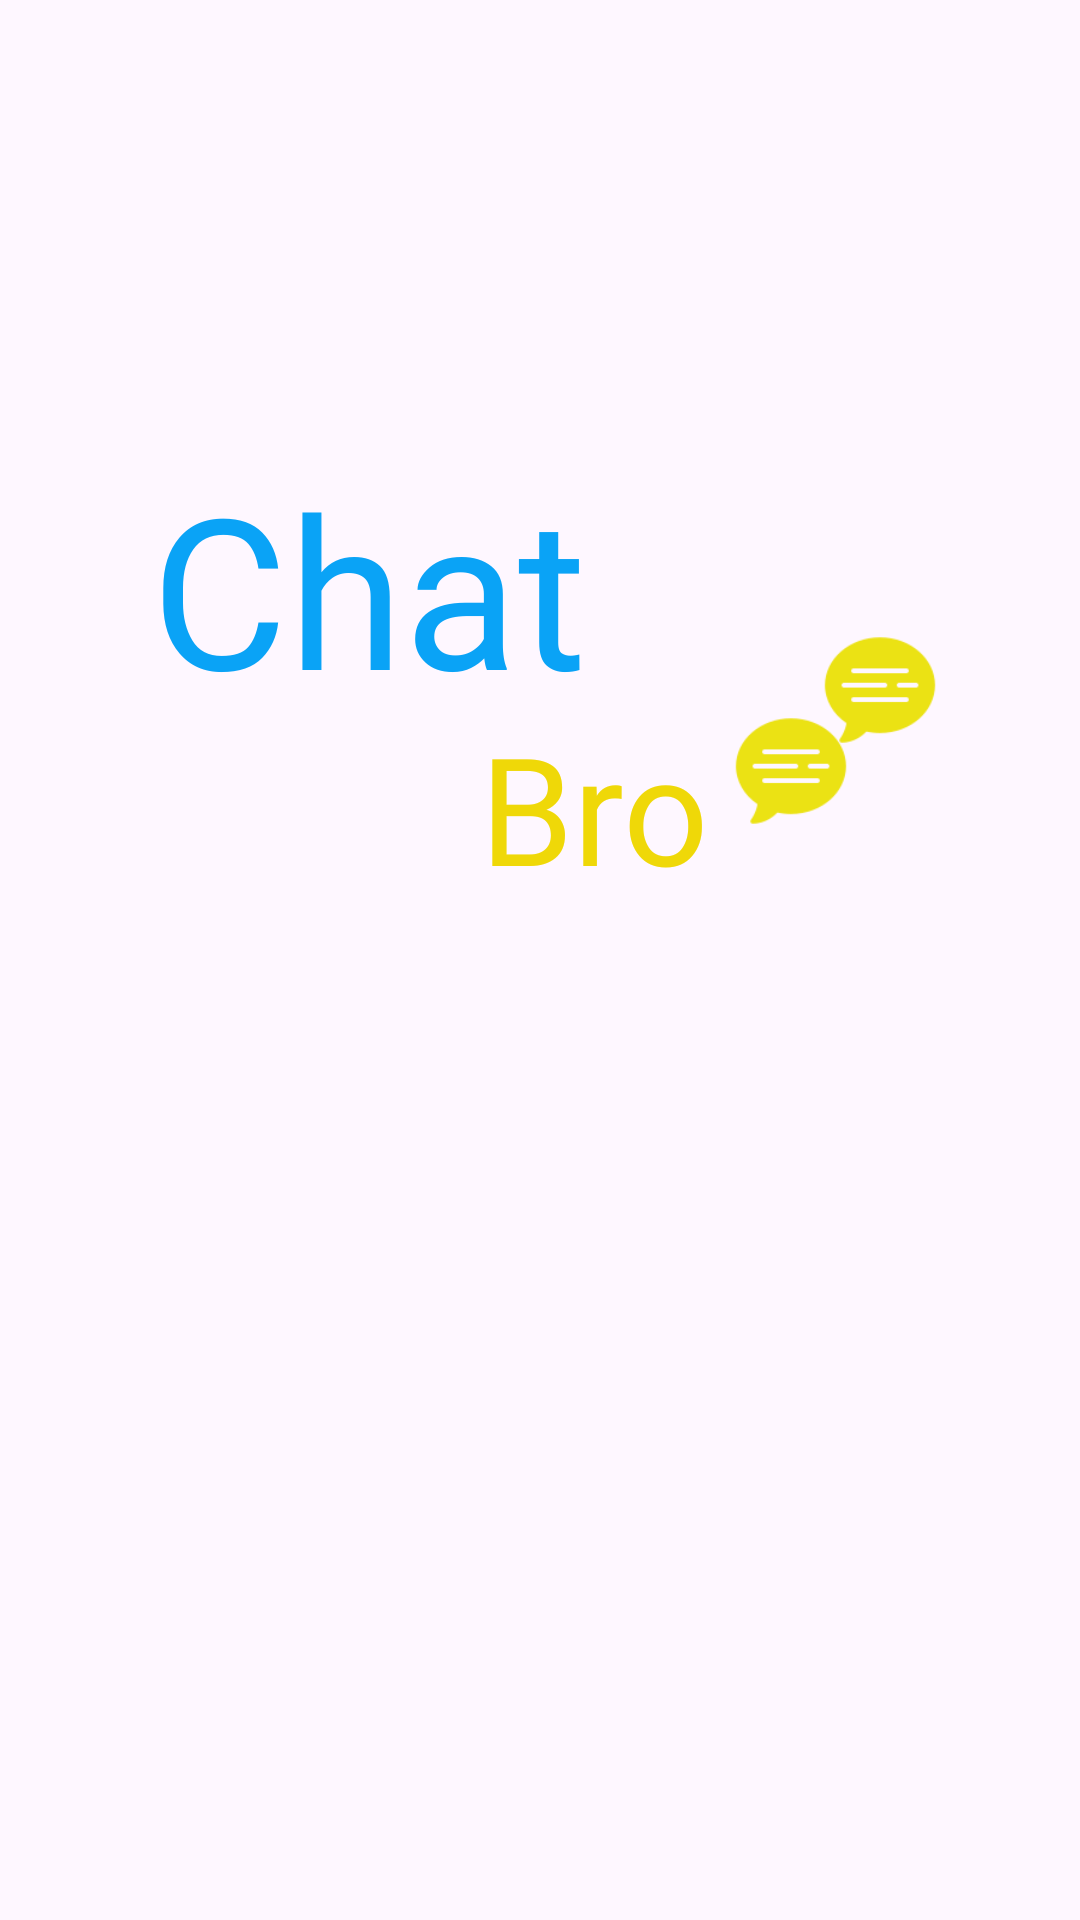

Icon bounding boxes for this 1080×1920 phone screenshot, format (x1, y1, x2, y2):
messa: (820, 637, 936, 750), (735, 711, 851, 824)
